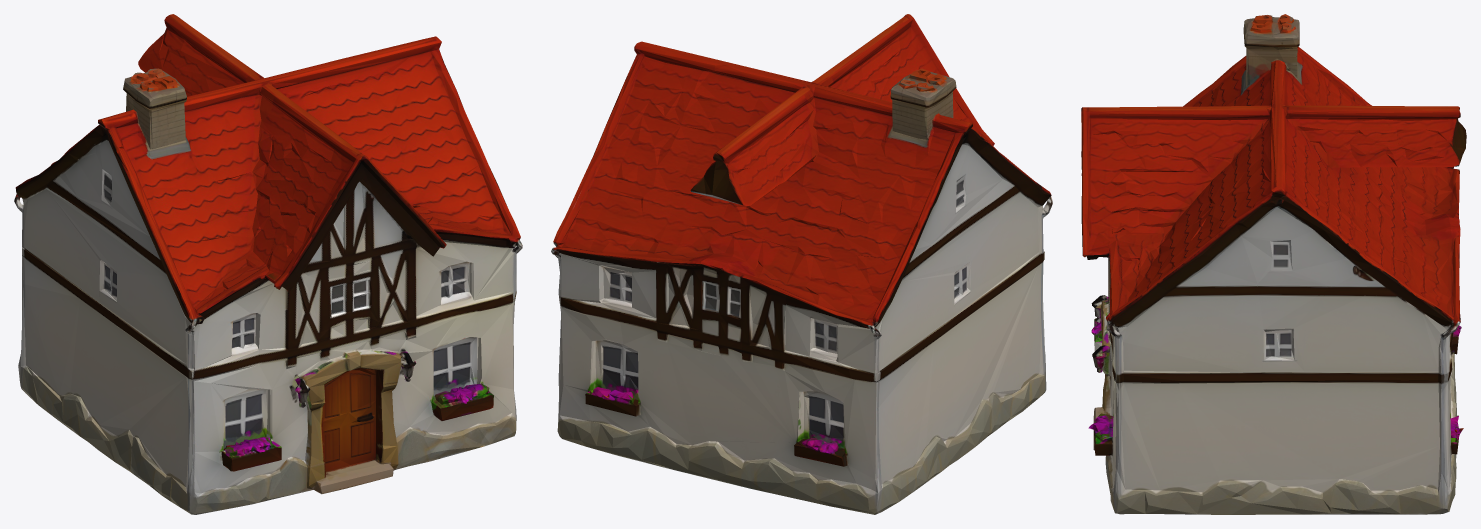
File: cottage.glb
3 renders of one model, left to right at view 1: azimuth 30°, elevation 25°; view 2: azimuth 150°, elevation 25°; view 3: azimuth 270°, elevation 25°, orthographic. The views are drawn at different scales.
Parts seen in each view (by area): view 1: textured_mesh.obj; view 2: textured_mesh.obj; view 3: textured_mesh.obj.
Part boxes in pixels (x1,y1,x2,y2): textured_mesh.obj: (14, 14, 522, 514); textured_mesh.obj: (551, 14, 1052, 514); textured_mesh.obj: (1081, 14, 1466, 514).
Bounding box in the file's own units: 1.91 × 1.99 × 1.93.
1 material, 1 textured.
